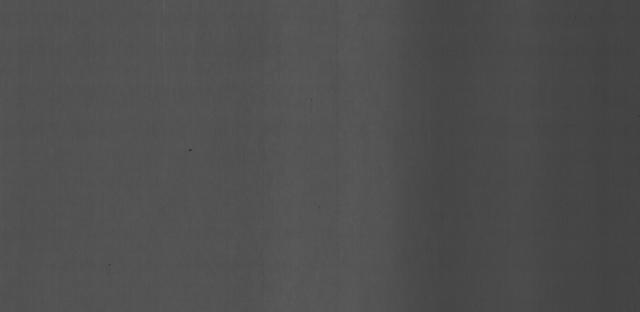inclusion: (187, 145, 194, 155)
